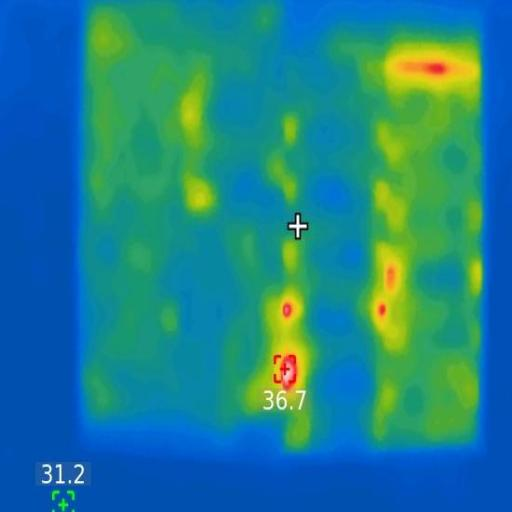hotspot: (416, 58, 454, 81), (276, 356, 300, 389), (377, 298, 388, 322), (281, 302, 295, 320)
